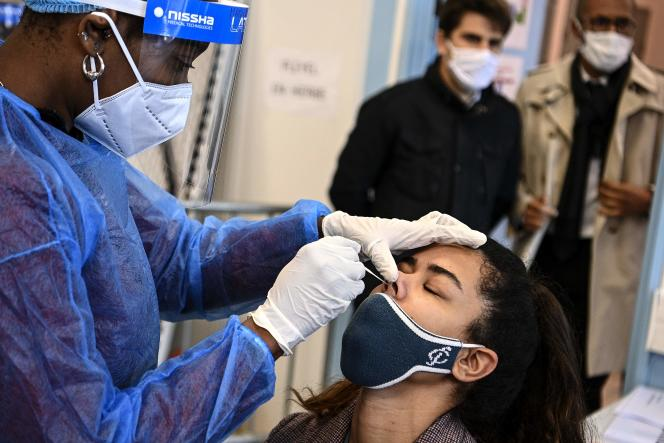with_incorrect_mask: (361, 256, 463, 352)
with_mask: (81, 32, 191, 147), (578, 2, 639, 70), (456, 11, 494, 86)
